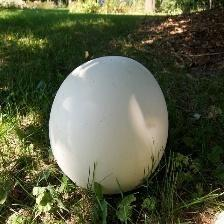Sports-Ball: (50, 54, 170, 192)
